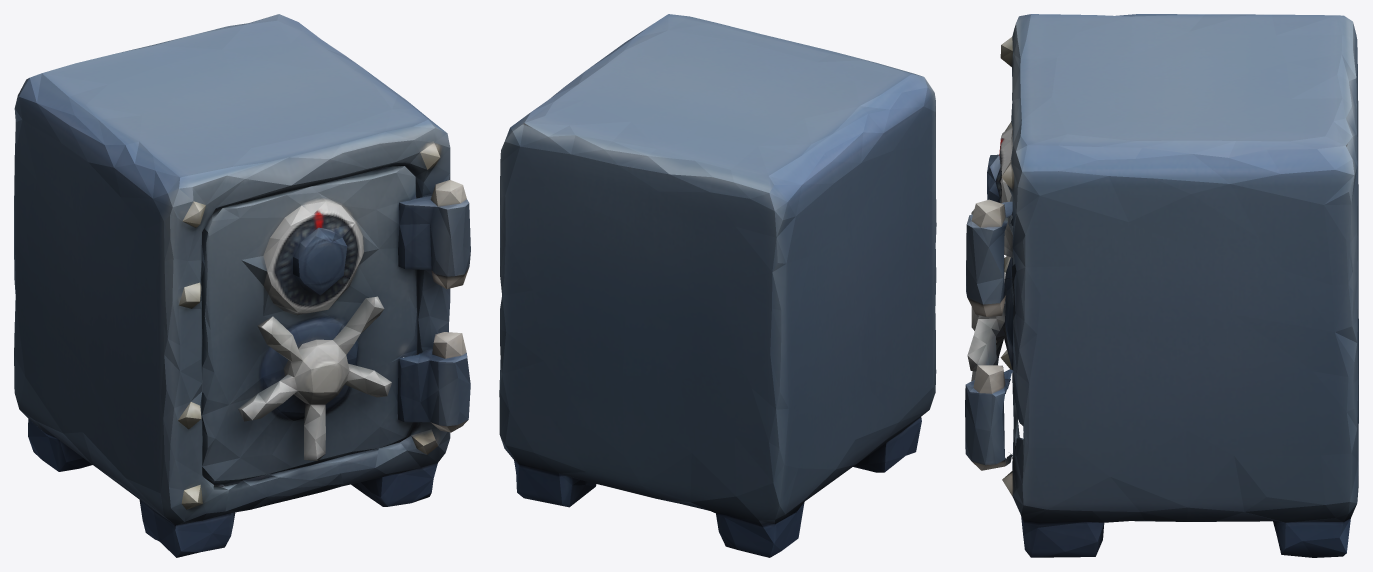
The model's file is safe_vault.glb.
3 renders of one model, left to right at view 1: azimuth 30°, elevation 25°; view 2: azimuth 150°, elevation 25°; view 3: azimuth 270°, elevation 25°, orthographic. The views are drawn at different scales.
Visible parts, largest first — view 1: geometry_0; view 2: geometry_0; view 3: geometry_0.
Boxes of the visible parts, x1,y1,x2,y2 form: geometry_0: [14, 14, 470, 557]; geometry_0: [499, 14, 936, 557]; geometry_0: [965, 14, 1358, 557].
Bounding box in the file's own units: 0.794 × 1 × 0.8639.
Materials: 1 (1 with a texture image).
